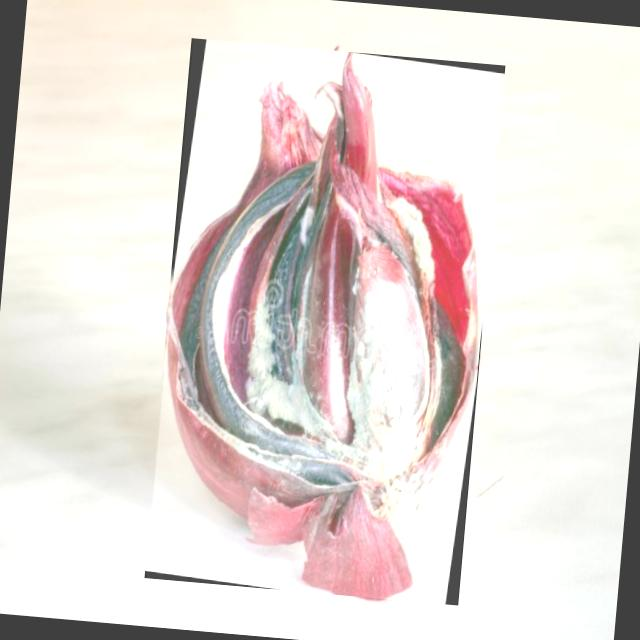rotten: (167, 52, 477, 598)
